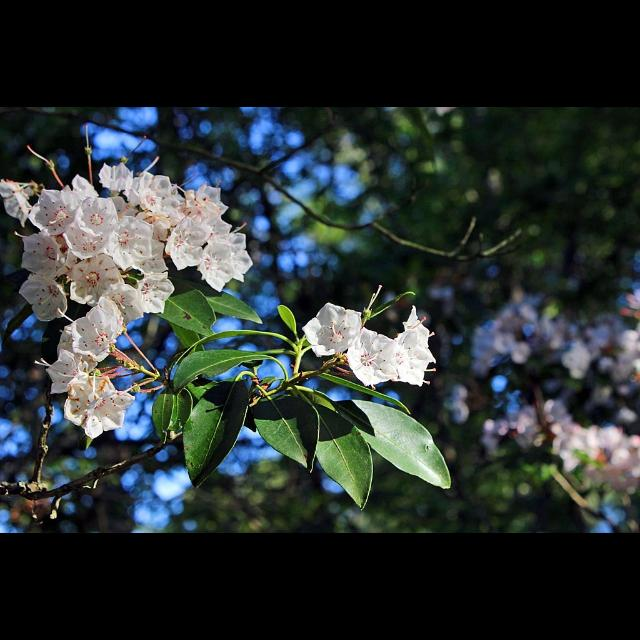Flower: (54, 363, 126, 447), (27, 172, 97, 240), (55, 304, 118, 370), (36, 331, 98, 394), (300, 302, 362, 356), (64, 253, 122, 307), (96, 161, 158, 211), (348, 324, 398, 386), (104, 212, 152, 270), (94, 280, 146, 332), (139, 174, 189, 223), (13, 233, 68, 277), (163, 218, 207, 270), (20, 276, 68, 322), (394, 328, 430, 388), (69, 196, 119, 237), (133, 268, 175, 316), (198, 237, 234, 293), (62, 217, 110, 257), (184, 203, 233, 237), (405, 308, 435, 360), (1, 177, 32, 227), (225, 234, 255, 284), (138, 220, 170, 266), (186, 181, 228, 211)
